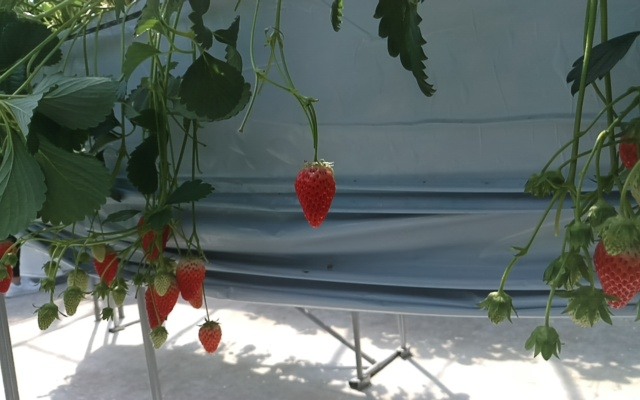GreenStrawberry: (568, 286, 609, 330), (602, 213, 635, 256), (36, 301, 59, 332), (62, 286, 83, 317), (67, 268, 87, 299), (152, 268, 171, 297), (150, 325, 168, 349), (88, 239, 105, 263), (111, 284, 126, 309)
MatureStrawberry: (590, 222, 640, 313), (292, 157, 338, 230), (144, 269, 181, 332), (134, 207, 173, 264), (176, 250, 206, 311), (615, 118, 640, 175), (92, 246, 118, 290), (1, 238, 19, 295), (197, 319, 222, 356)
